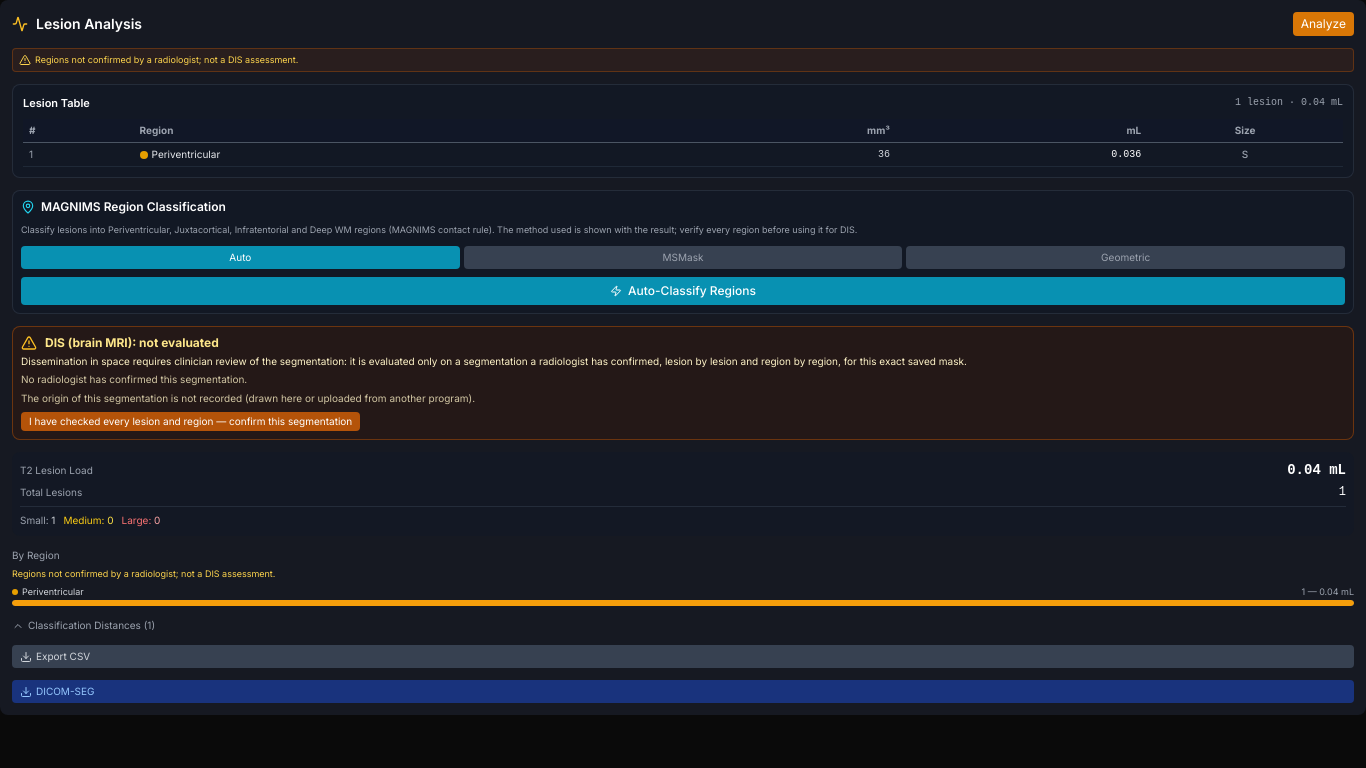
R2: each value present is drawn with the label the server stored for it › rc071 release final r2 refused after switching the label preset to Default
What coordinates should you click on to do the following:
click the button "confirm this segmentation"
I would click on:
 (191, 422)
Its box is [21,412,360,431].
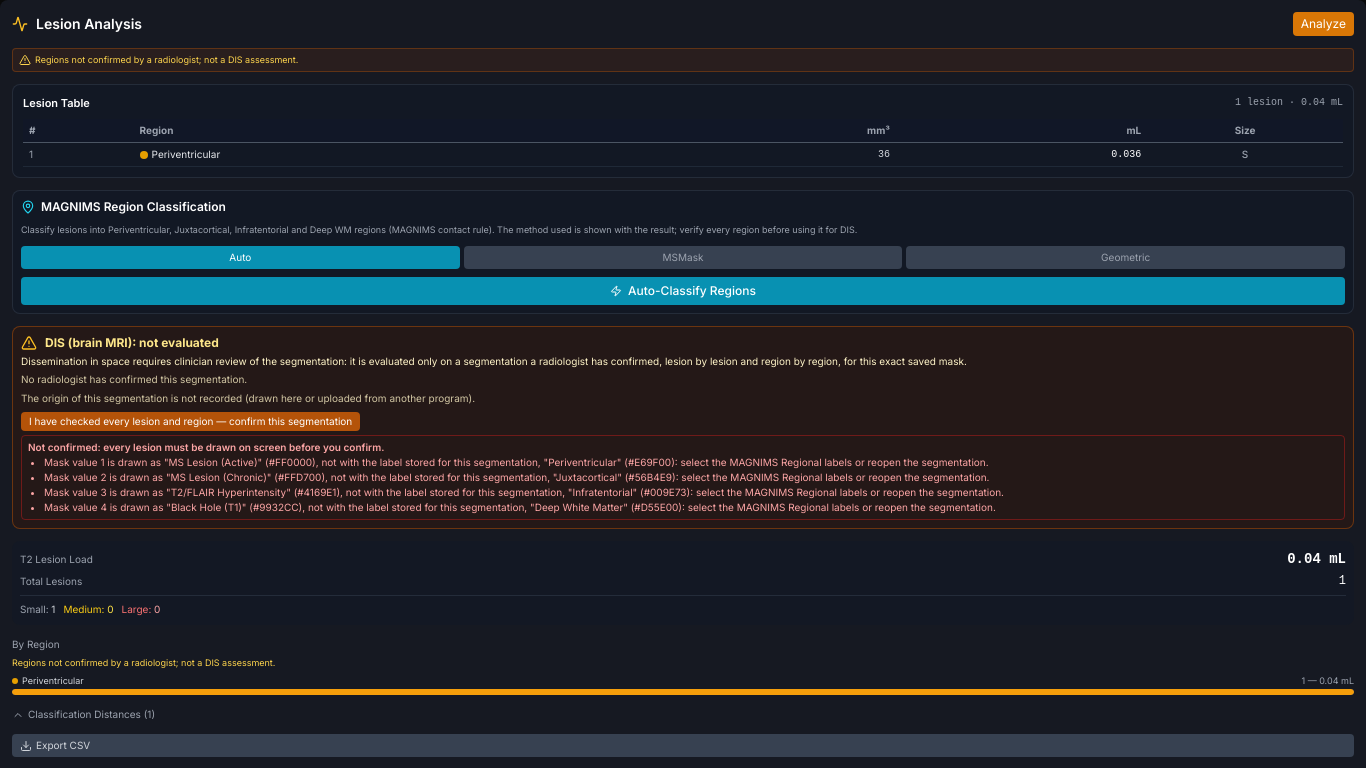
expect the message with test id "dis-confirm-refused" holds "value 2 is drawn as \"MS Lesion \\(Chronic\\)\".*\"Juxtacortical\"": met, box [21,435,1345,520]
